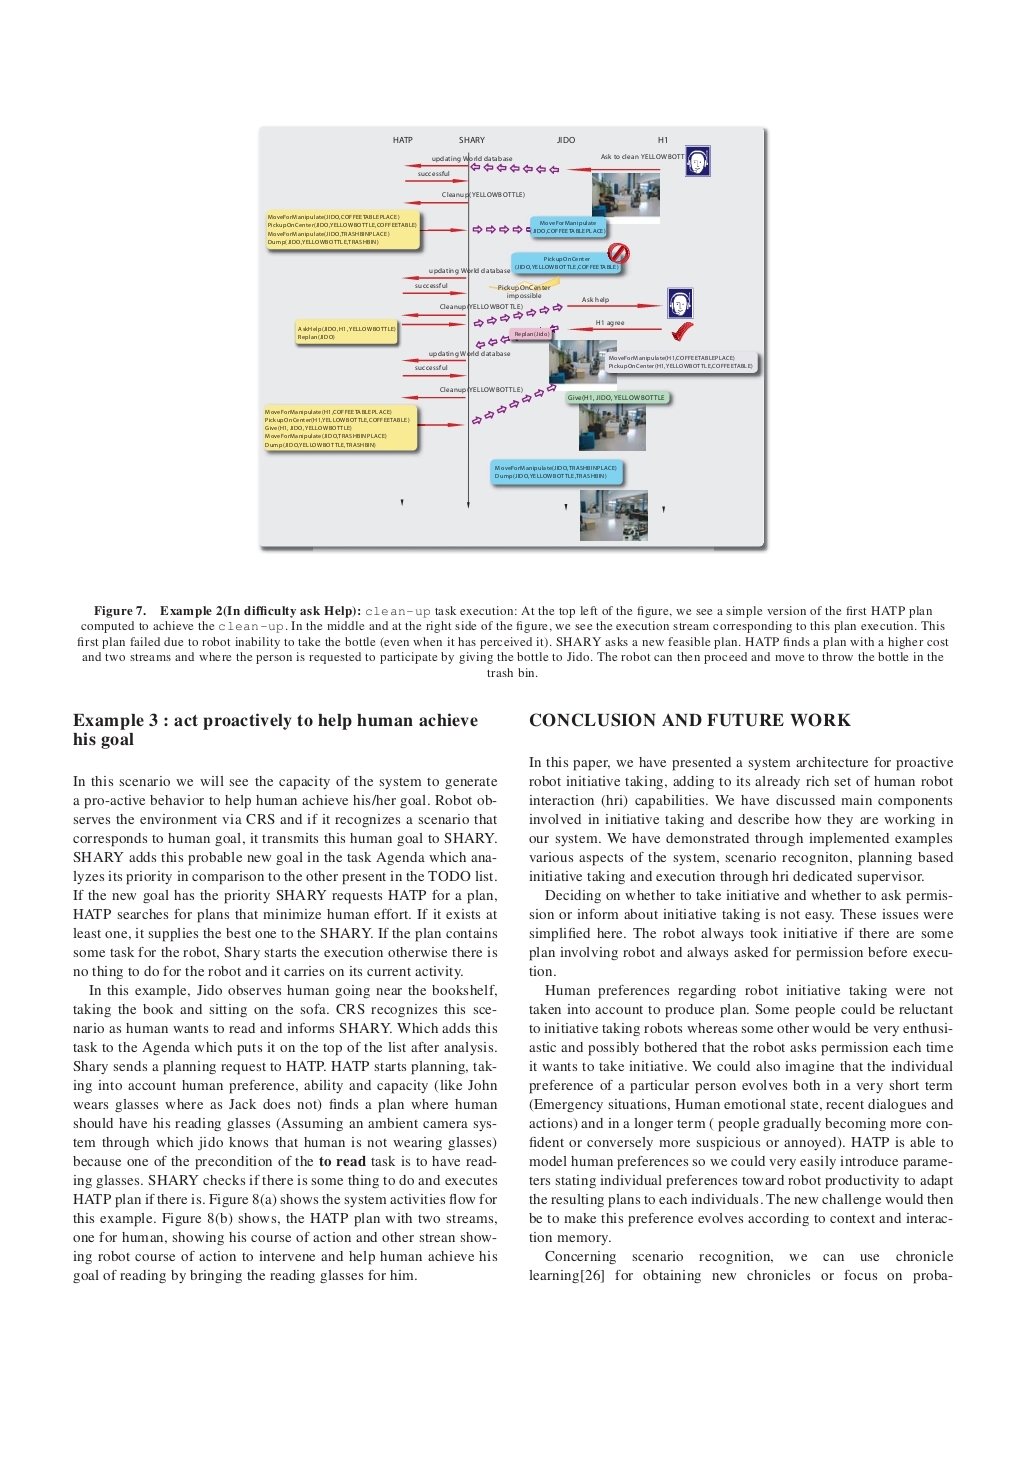figure: (259, 125, 768, 553)
